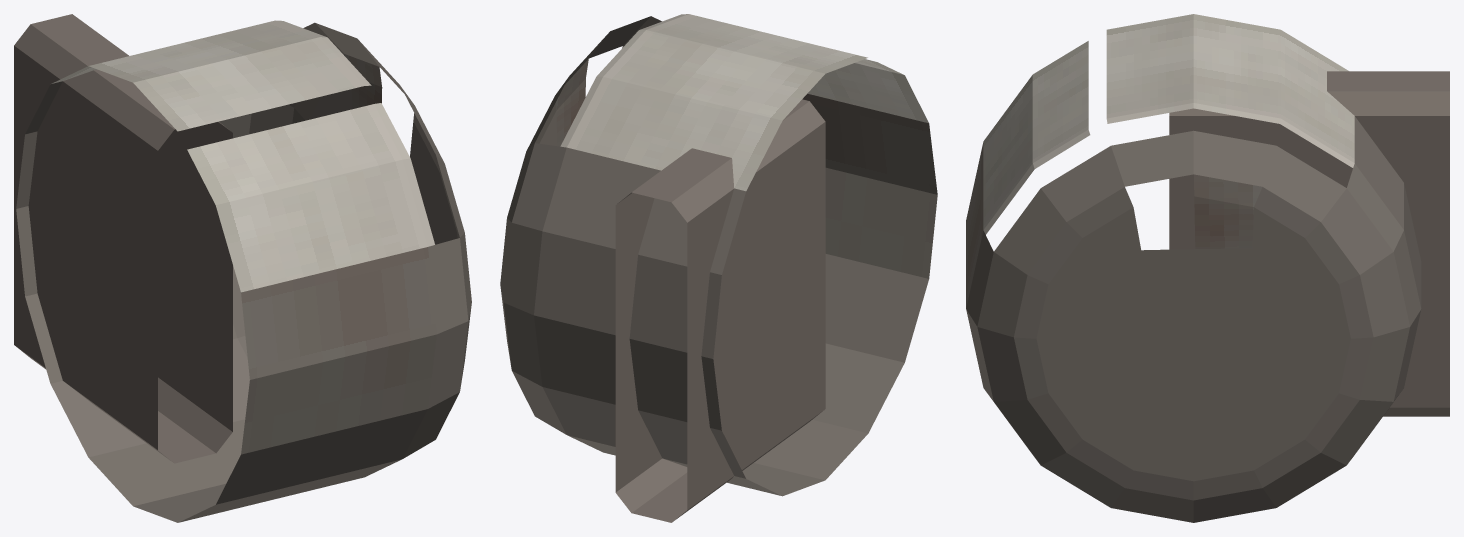
The picture shows the model from 3 angles, left to right: view 1: azimuth 30°, elevation 25°; view 2: azimuth 150°, elevation 25°; view 3: azimuth 270°, elevation 25°; orthographic projection. The views are drawn at different scales.
Bounding box in the file's own units: 1 × 1.62 × 1.72.
